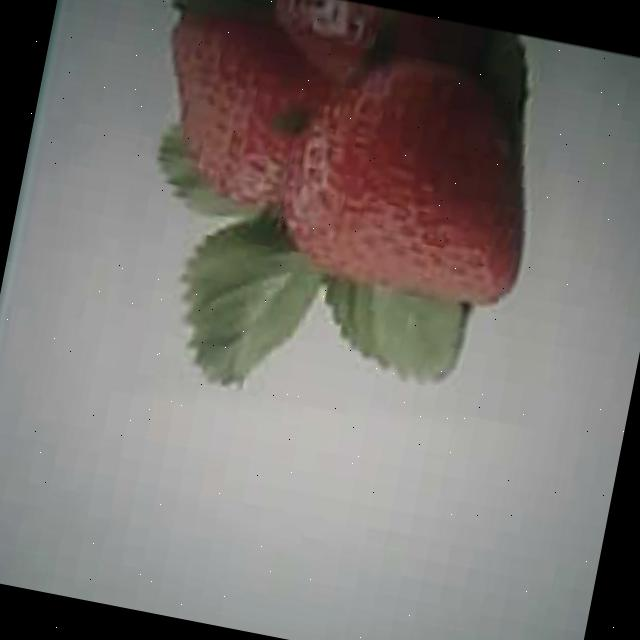strawberry: (268, 38, 549, 315)
